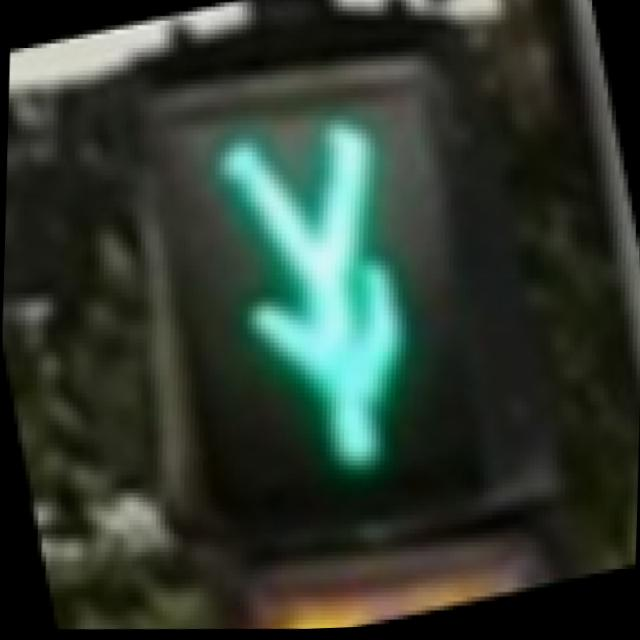green_light: (110, 41, 548, 558)
